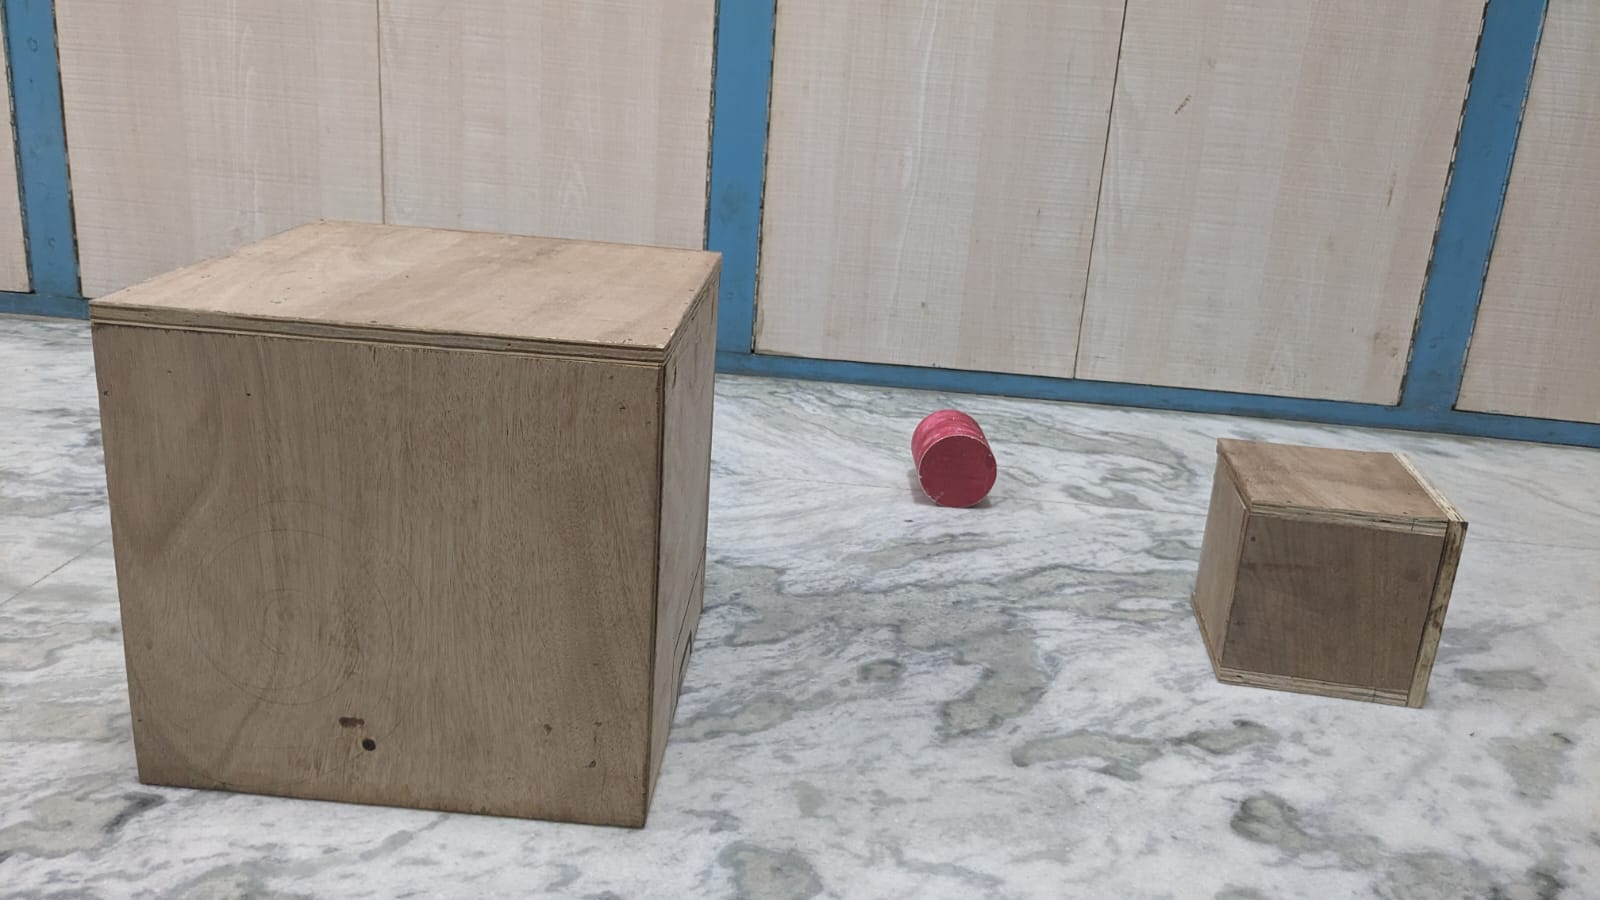150mm obstacle: (1169, 421, 1478, 718)
300mm obstacle: (76, 185, 749, 843)
testtube: (899, 397, 1015, 516)
